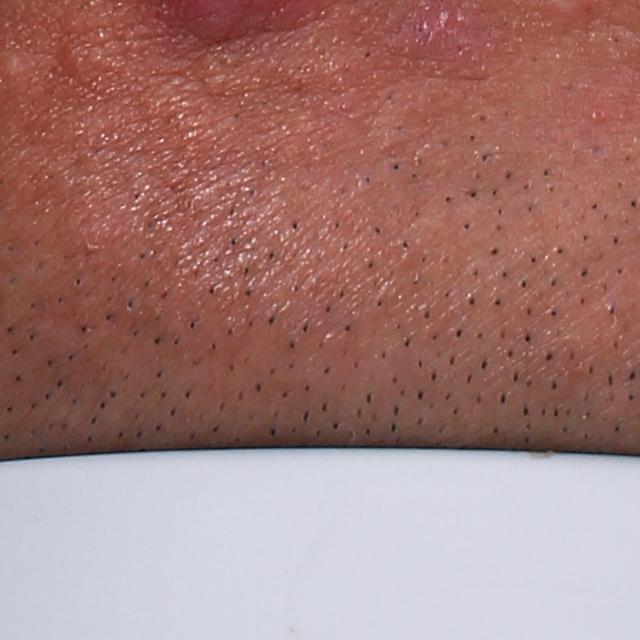papule: (411, 0, 460, 62)
